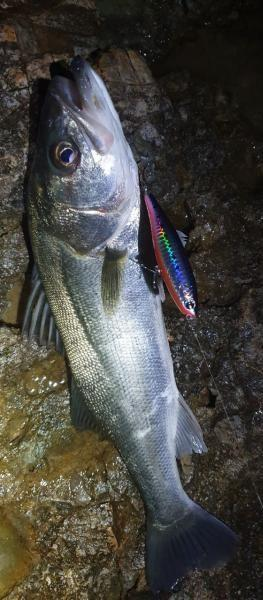fish: (23, 57, 234, 592)
